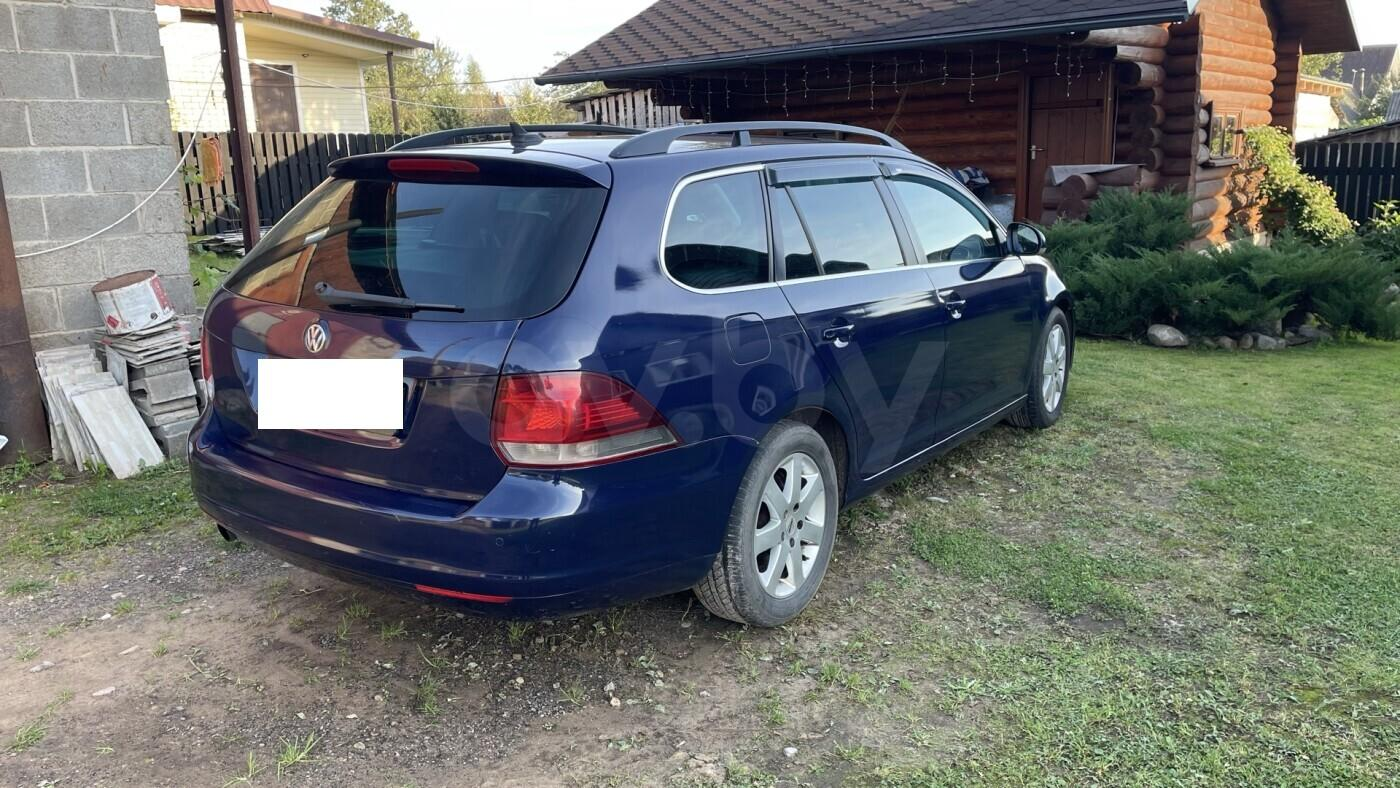Golf_2008-2013: (166, 115, 1083, 630)
